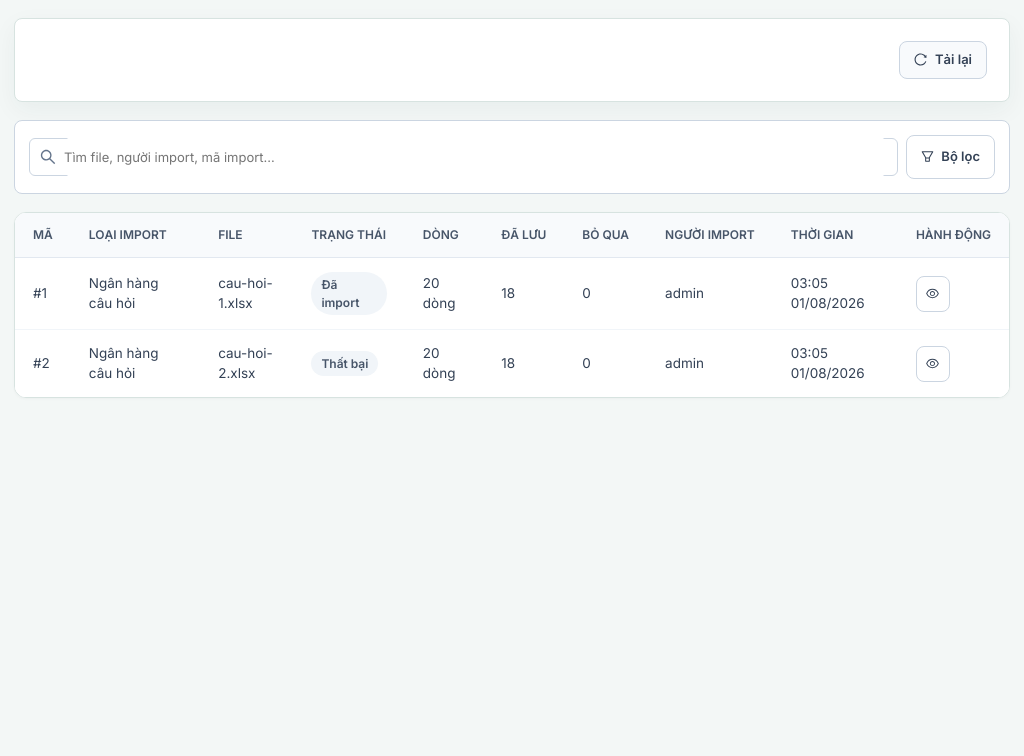
Test case: EvaluationImportHistoryPage - chi tiết import › dùng failedRows khi thiếu invalidRows
Check: the text "#1" is shown, box x1=15 y1=258 x2=71 y2=330
What coordinates should you click on to do the following:
click the button titled "Xem chi tiết" in the row of "cau-hoi-1.xlsx"
I would click on:
 (933, 294)
Its box is x1=916 y1=276 x2=950 y2=312.
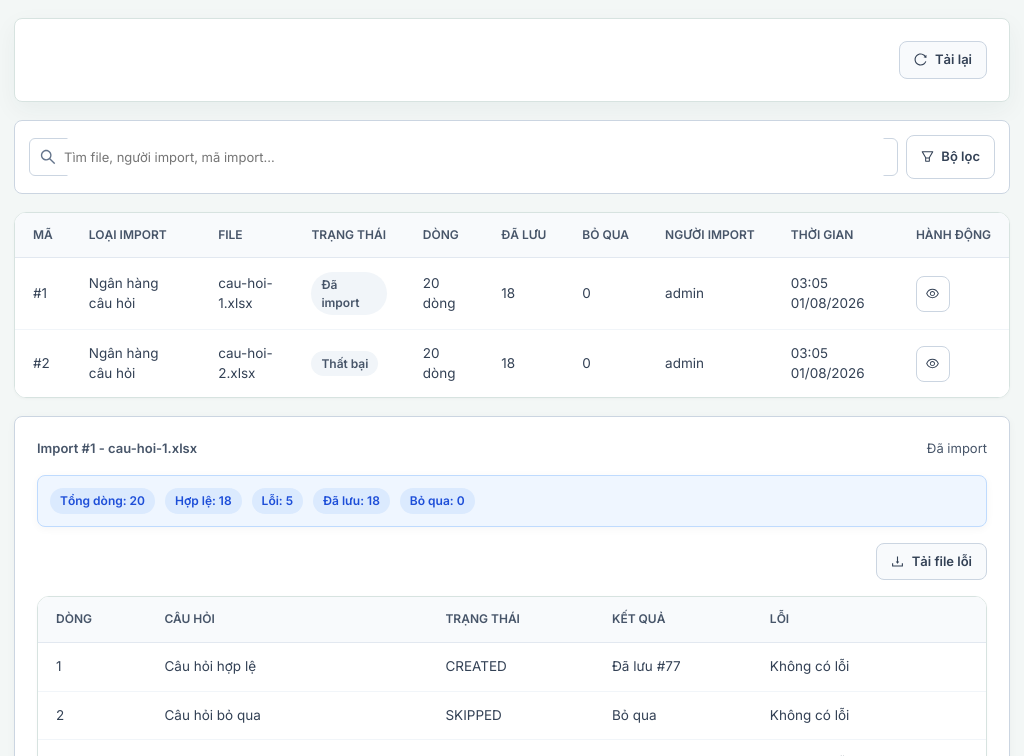
Check: the text "Import #1 - cau-hoi-1.xlsx" is shown, box x1=37 y1=439 x2=197 y2=459
Check: the text "Lỗi: 5" is shown, box x1=252 y1=488 x2=303 y2=514
